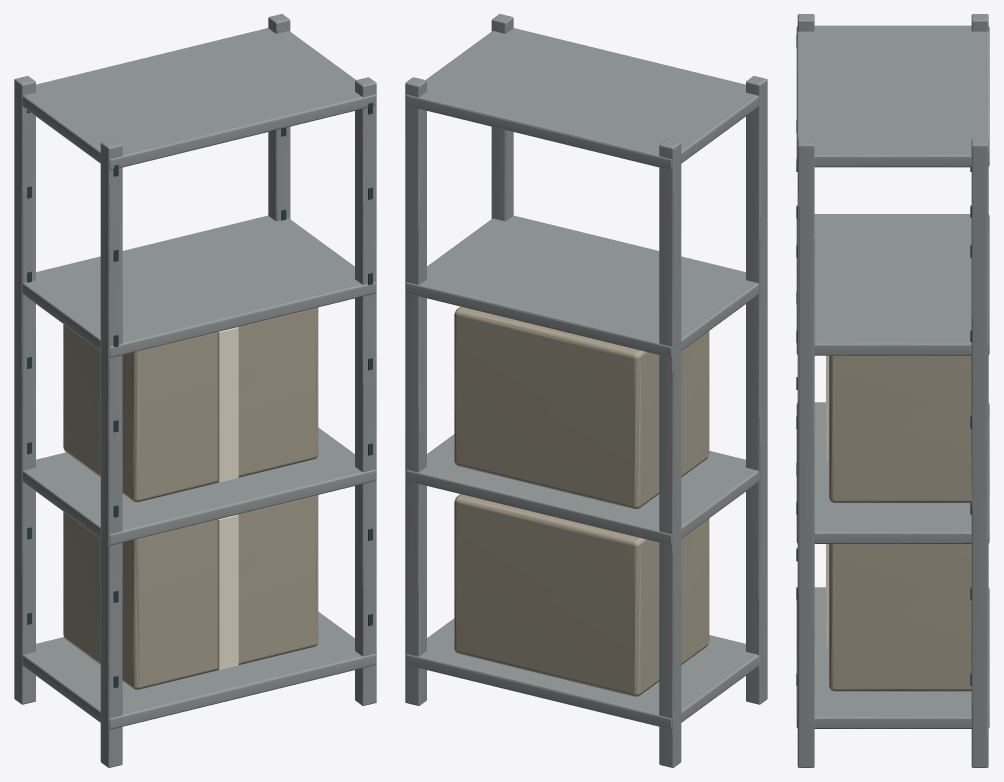
Rendered from 10_starter_rack.glb.
3 views of the same model, side by side, from view 1: azimuth 30°, elevation 25°; view 2: azimuth 150°, elevation 25°; view 3: azimuth 270°, elevation 25° (orthographic).
Visible parts, largest first — view 1: 10_starter_rack__Static; view 2: 10_starter_rack__Static; view 3: 10_starter_rack__Static.
Part boxes in pixels (x1,y1,x2,y2): 10_starter_rack__Static: [14, 14, 376, 767]; 10_starter_rack__Static: [405, 14, 767, 767]; 10_starter_rack__Static: [796, 14, 989, 767].
Bounding box in the file's own units: 0.825 × 1.82 × 0.511.
